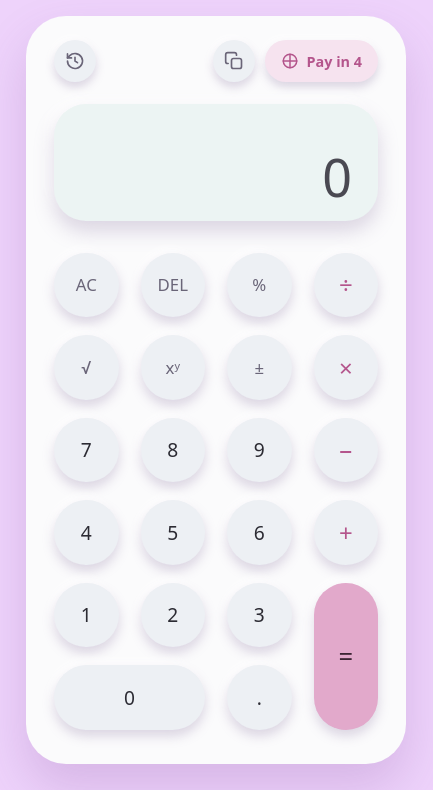
Test case: Calculator › adds two numbers through the API
Click the button "1".
click(86, 615)  # box [54, 583, 118, 647]
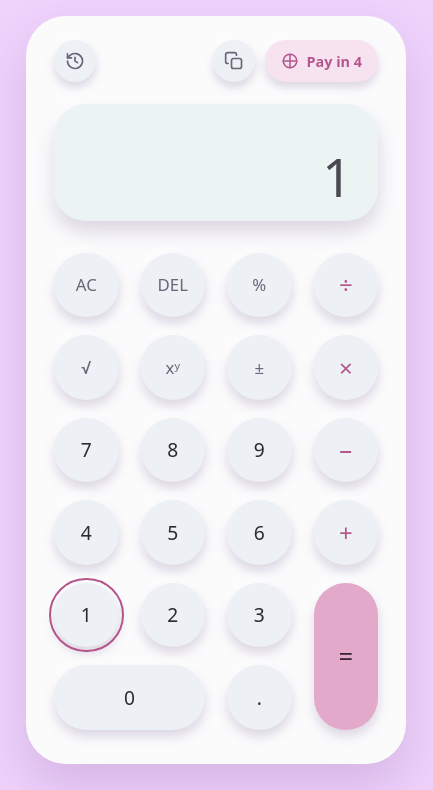
Click the button "2".
click(173, 615)  # box [140, 583, 205, 647]
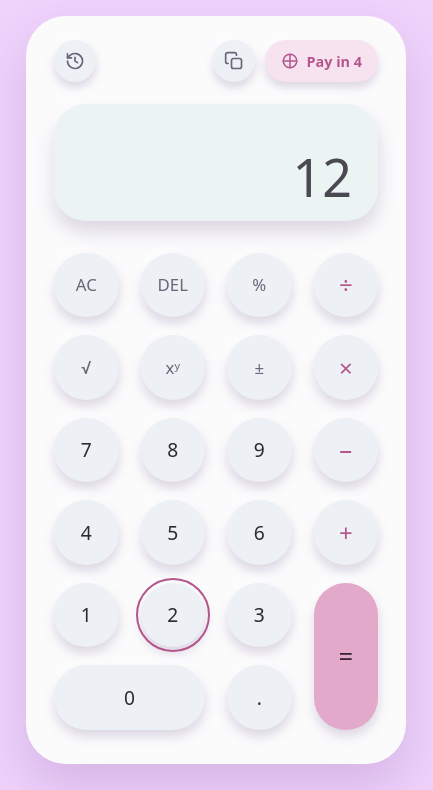
Click the button named "Add".
click(346, 532)  # box [314, 500, 378, 565]
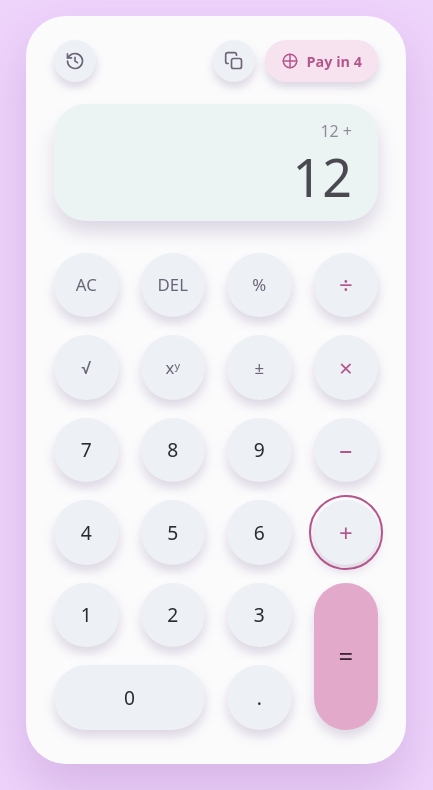
Click the button "7".
click(86, 450)  # box [54, 418, 118, 482]
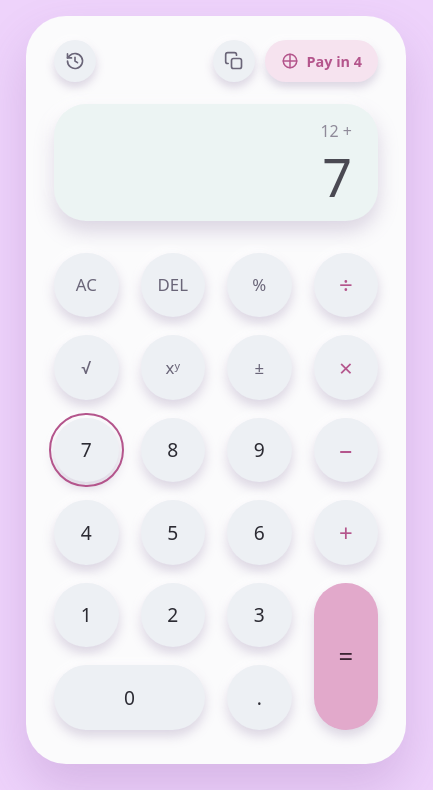
Click the button named "Equals".
click(346, 656)  # box [314, 583, 378, 730]
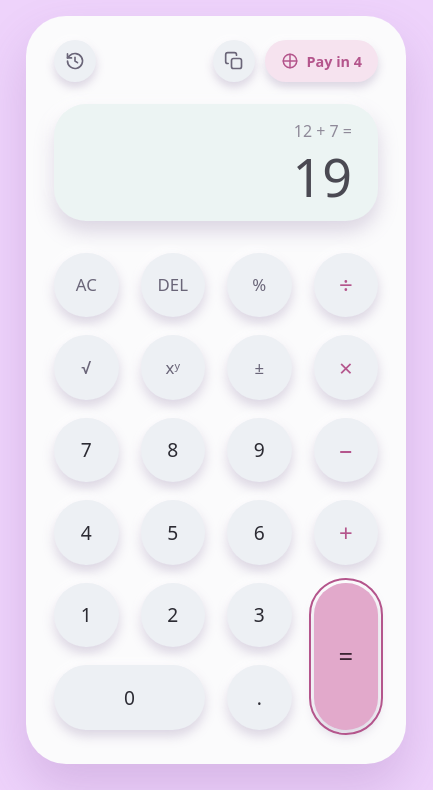
Expected: the text with test id "display-value" reads "19", [292, 141, 352, 212]
Expected: the text with test id "display-expression" reads "12 + 7 =", [294, 120, 352, 142]
